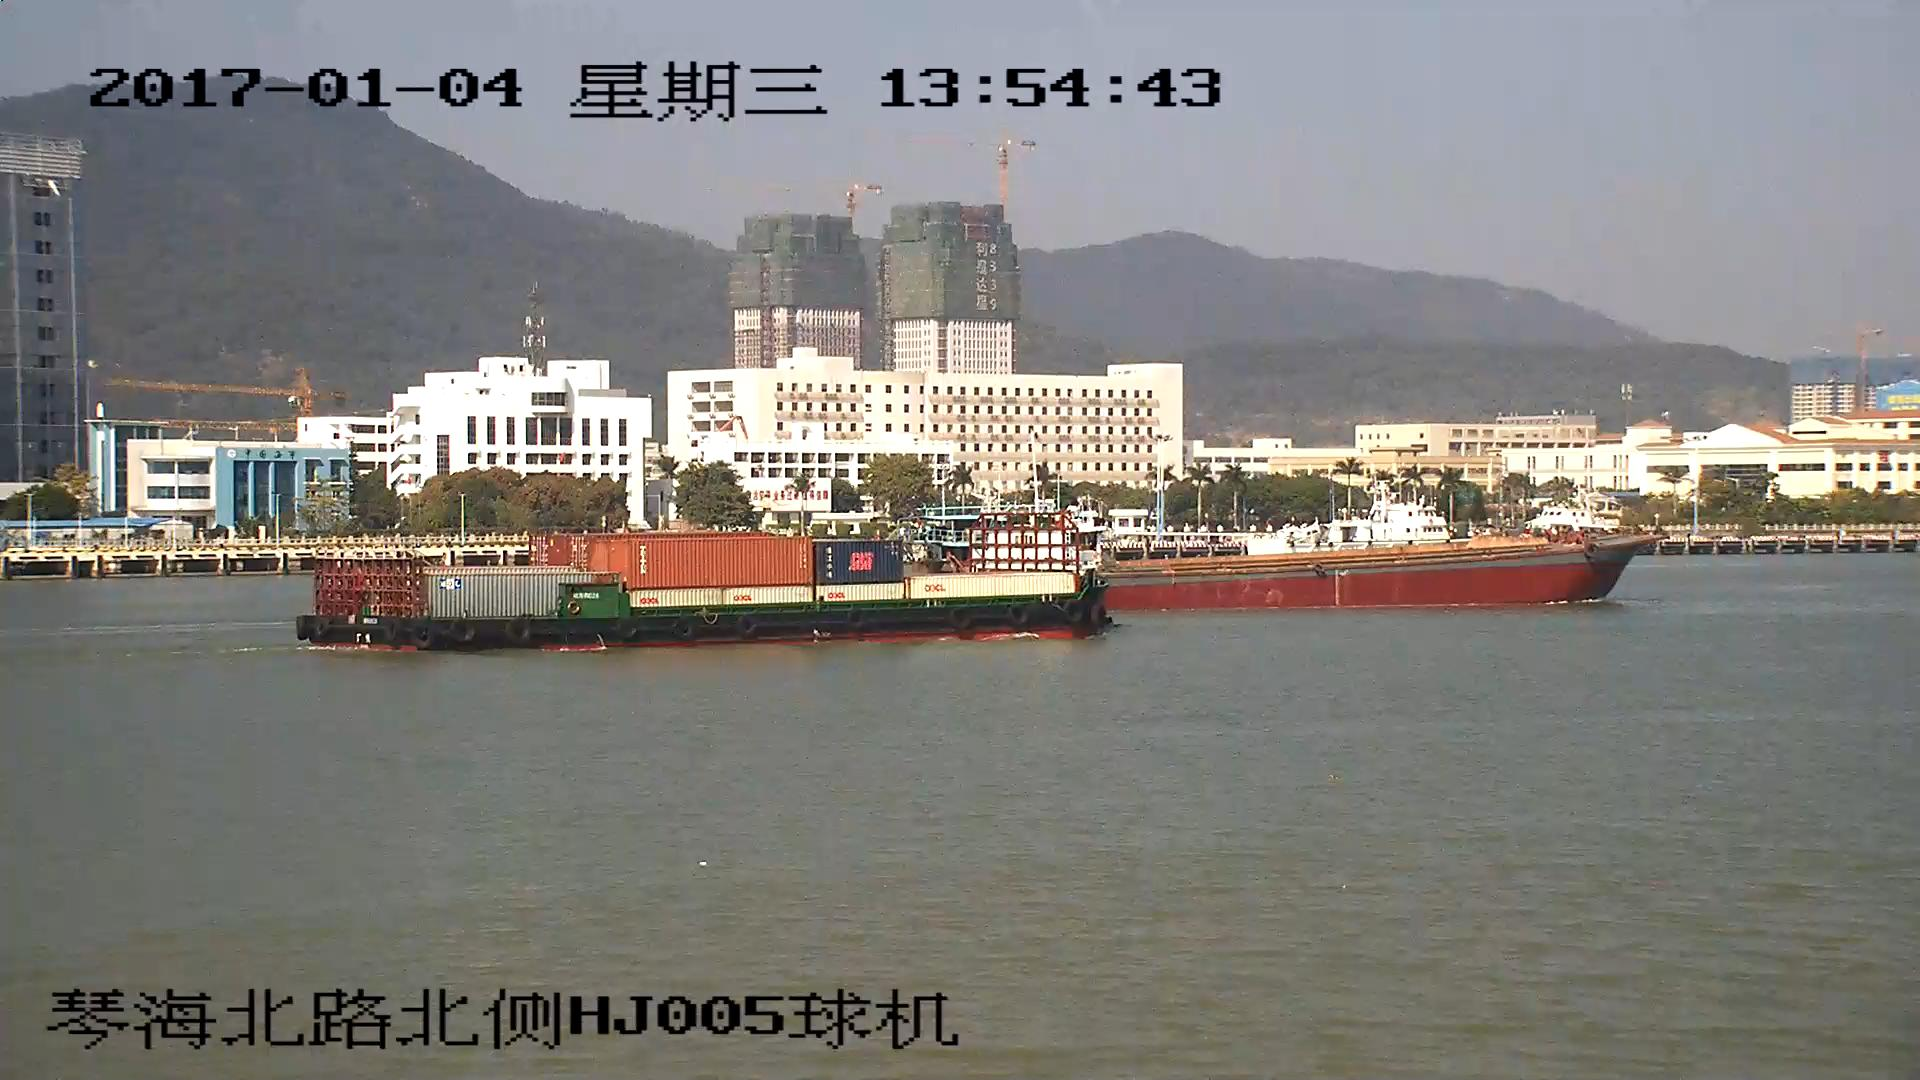bulk cargo carrier: (1118, 537, 1671, 607)
container ship: (297, 517, 1131, 649)
